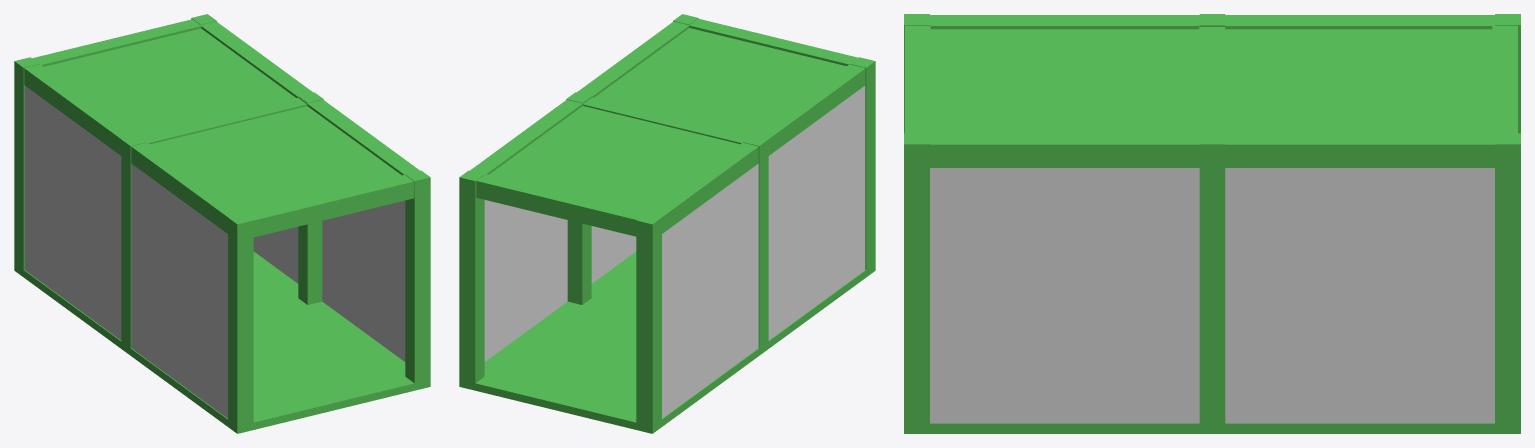
Rendered from Tunnel.fbx.
3 views of the same model, side by side, from view 1: azimuth 30°, elevation 25°; view 2: azimuth 150°, elevation 25°; view 3: azimuth 270°, elevation 25° (orthographic). The views are drawn at different scales.
Visible parts, largest first — view 1: Tunnel; view 2: Tunnel; view 3: Tunnel.
Boxes of the visible parts, x1=… form: Tunnel: x1=14, y1=14, x2=430, y2=433; Tunnel: x1=459, y1=14, x2=875, y2=433; Tunnel: x1=904, y1=14, x2=1520, y2=433.
Bounding box in the file's own units: 200 × 207 × 400.
